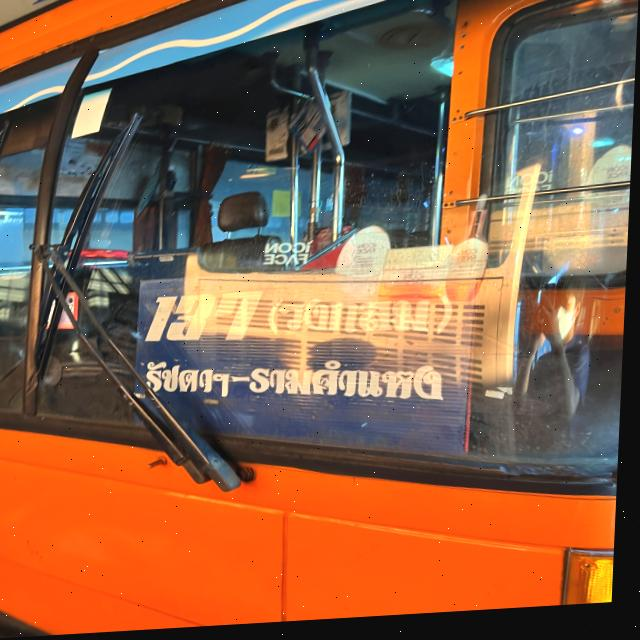BMTA-bus: (0, 0, 640, 640)
Destination-Sign-Normal: (132, 266, 477, 477)
